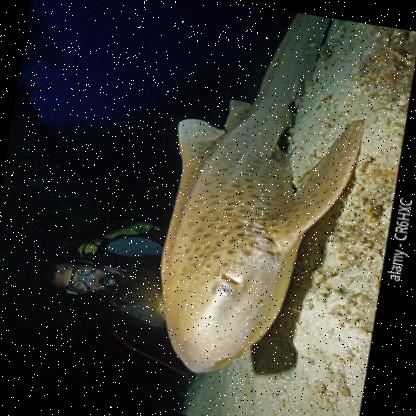zebra_shark: (117, 0, 388, 396)
